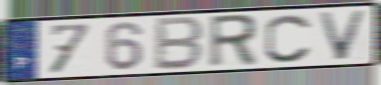6: (102, 20, 145, 72)
7: (47, 21, 91, 75)
B: (151, 15, 206, 72)
C: (262, 12, 314, 64)
R: (206, 13, 260, 70)
V: (315, 9, 371, 62)
